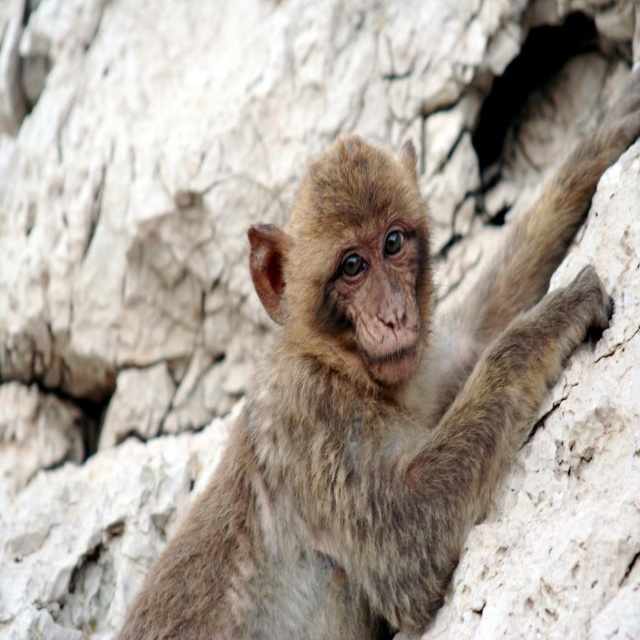Monkey: (116, 125, 607, 640)
